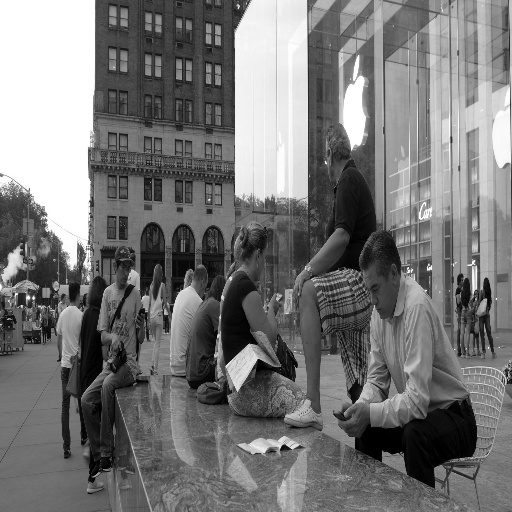hand: (340, 390, 382, 445), (292, 268, 312, 307), (334, 398, 355, 420), (267, 292, 281, 319), (110, 331, 122, 354), (135, 310, 146, 328)
